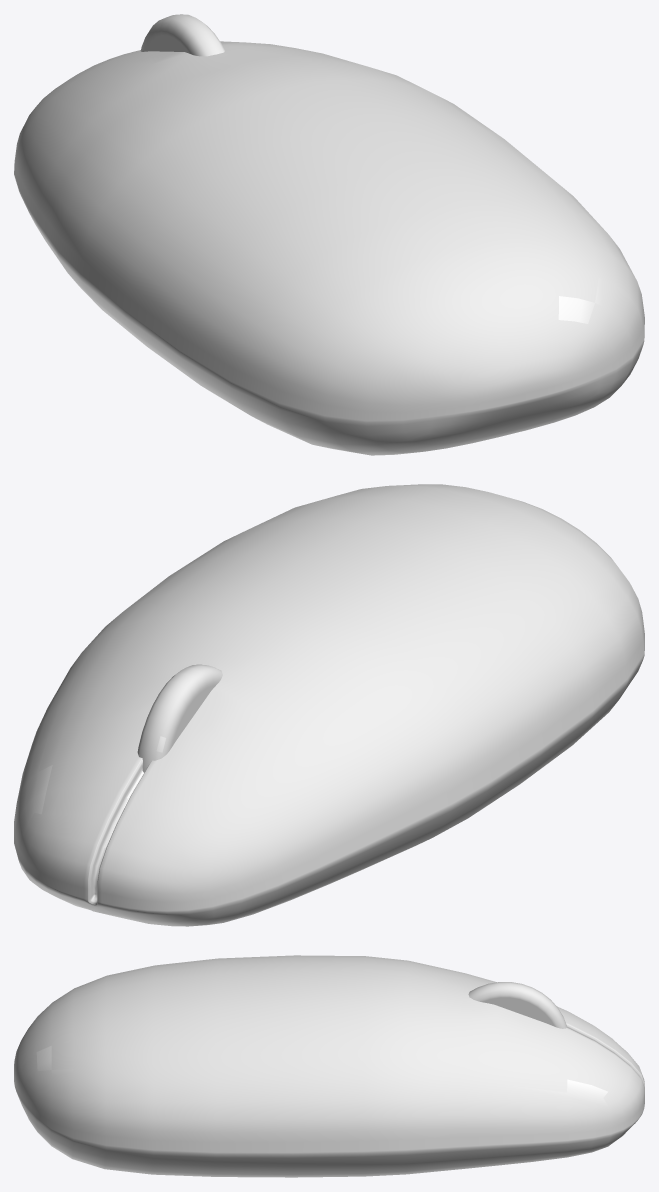
The model's file is mouse.FBX.
3 views of the same model, one above another, from view 1: azimuth 30°, elevation 25°; view 2: azimuth 150°, elevation 25°; view 3: azimuth 270°, elevation 25° (orthographic). The views are drawn at different scales.
Parts seen in each view (by area): view 1: mouse; view 2: mouse; view 3: mouse.
Boxes of the visible parts, x1=… form: mouse: x1=14, y1=14, x2=644, y2=455; mouse: x1=14, y1=484, x2=644, y2=926; mouse: x1=14, y1=955, x2=644, y2=1177.
Size of the model in its own units: 7.82 by 3.76 by 14.11.
